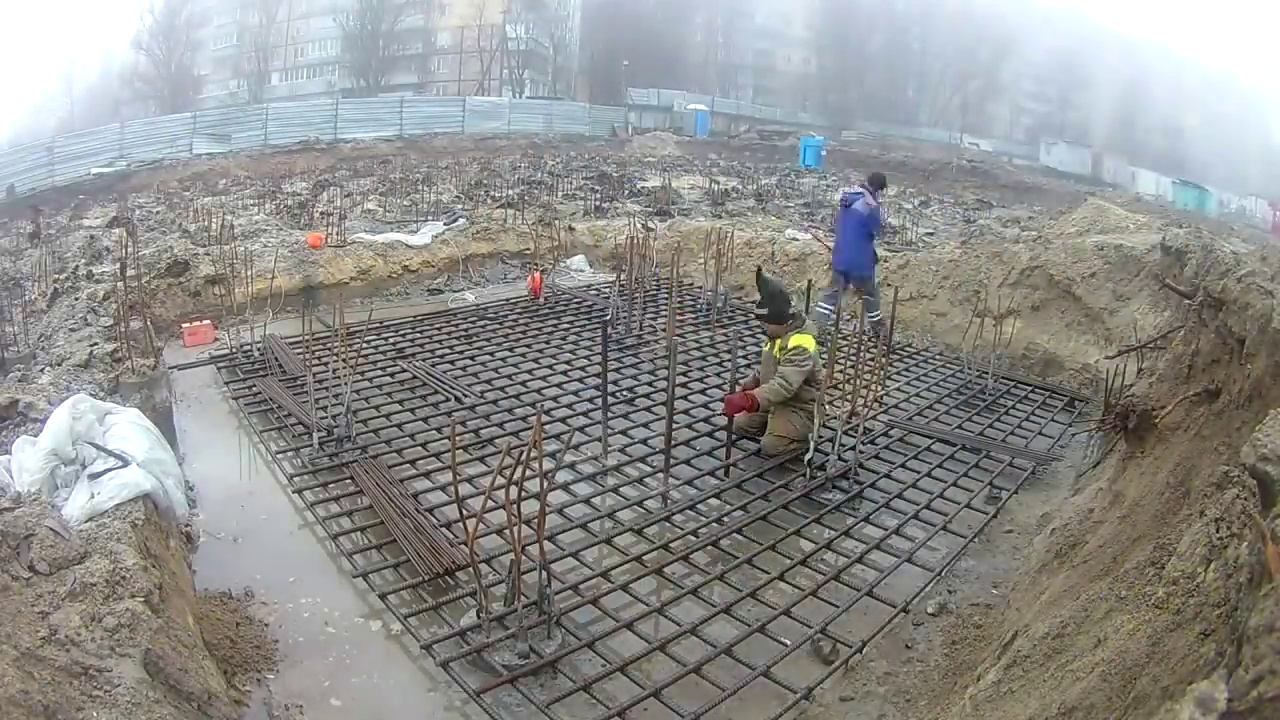helmet: (525, 270, 541, 299), (304, 232, 325, 249)
helmet-off: (722, 267, 826, 471), (862, 173, 892, 202)
helmet-on: (744, 267, 798, 341)
person: (829, 169, 893, 338)
